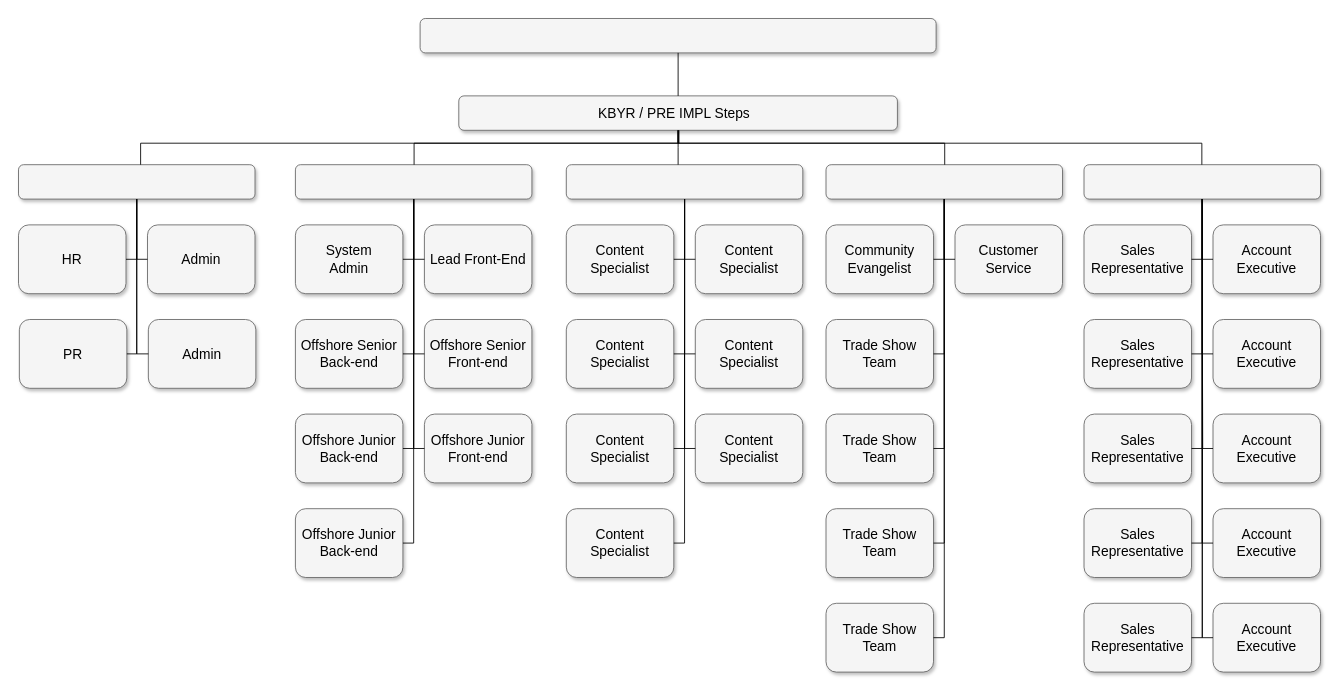
This 1341x693 diagram has some shape labels left out. The centre of each missing label's shape, as x and y in pixels:
CCO: (x=685, y=182)
CFO: (x=137, y=182)
CMO: (x=945, y=182)
CSO: (x=1203, y=182)
CTO: (x=414, y=182)
Smart Data Routing: (x=678, y=36)
